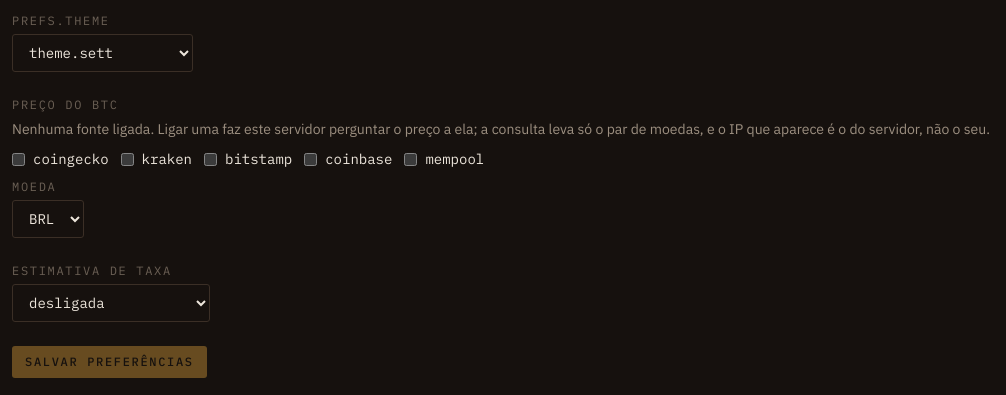
Test: Preferencias › depois de salvar, a tela confirma e o botão volta a ficar parado
Click the checkbox labelled "kraken".
click(127, 159)  # box [121,153,134,166]
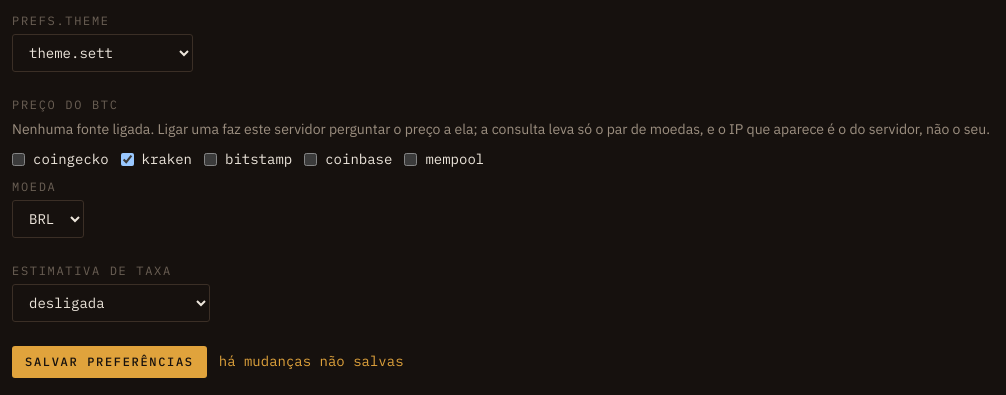
Click the button "Salvar preferências".
click(109, 362)  # box [12,346,207,378]
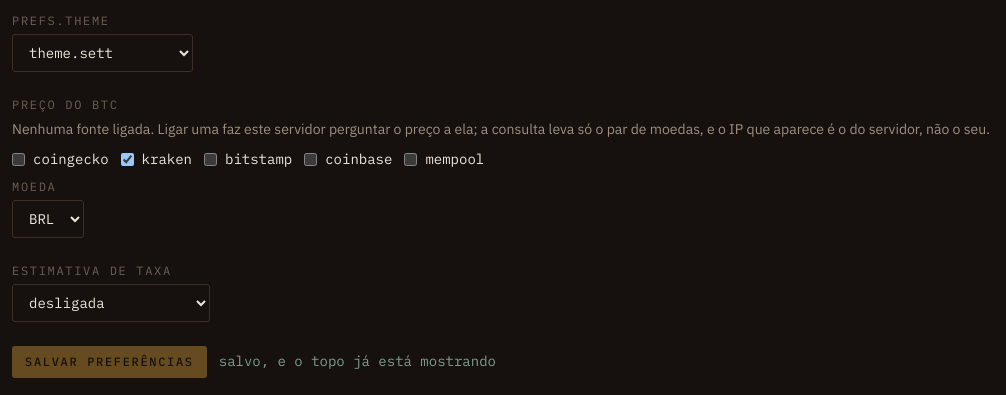
Expected: the text "salvo, e o topo já está mostrando" is shown, [219,351,496,372]
Expected: the text "há mudanças não salvas" is gone
